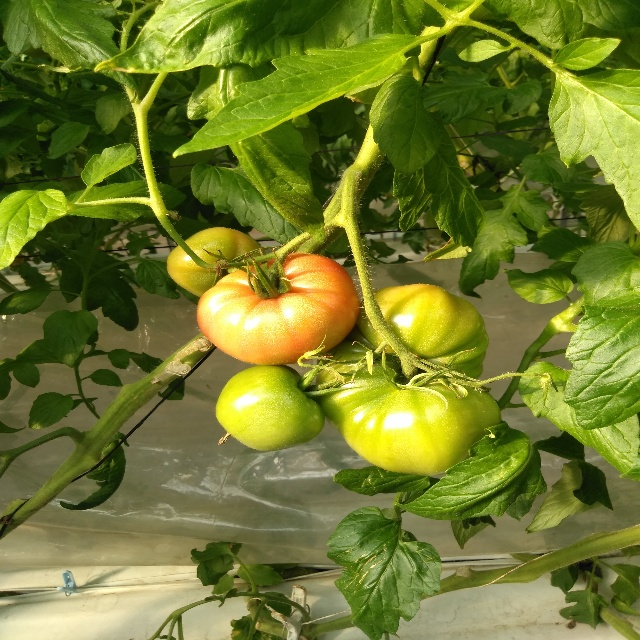b_green: (316, 283, 502, 477), (215, 365, 325, 452), (167, 228, 266, 297)
b_half_ripened: (196, 252, 360, 365)
